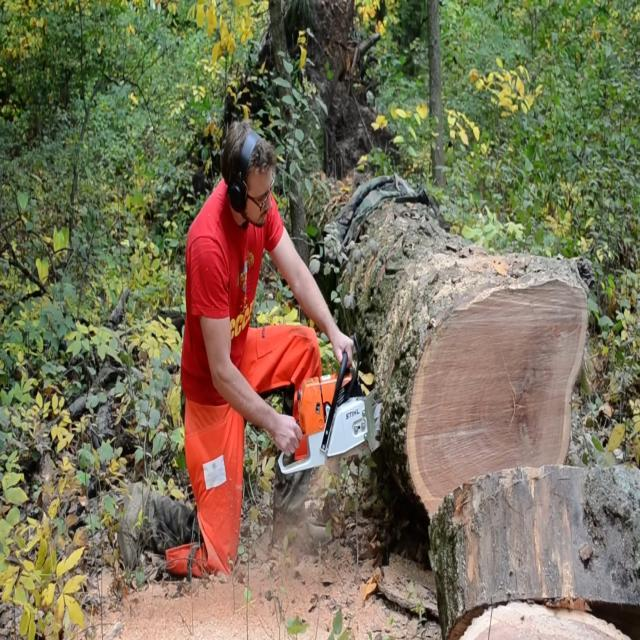Chainsaw: (264, 323, 418, 477)
